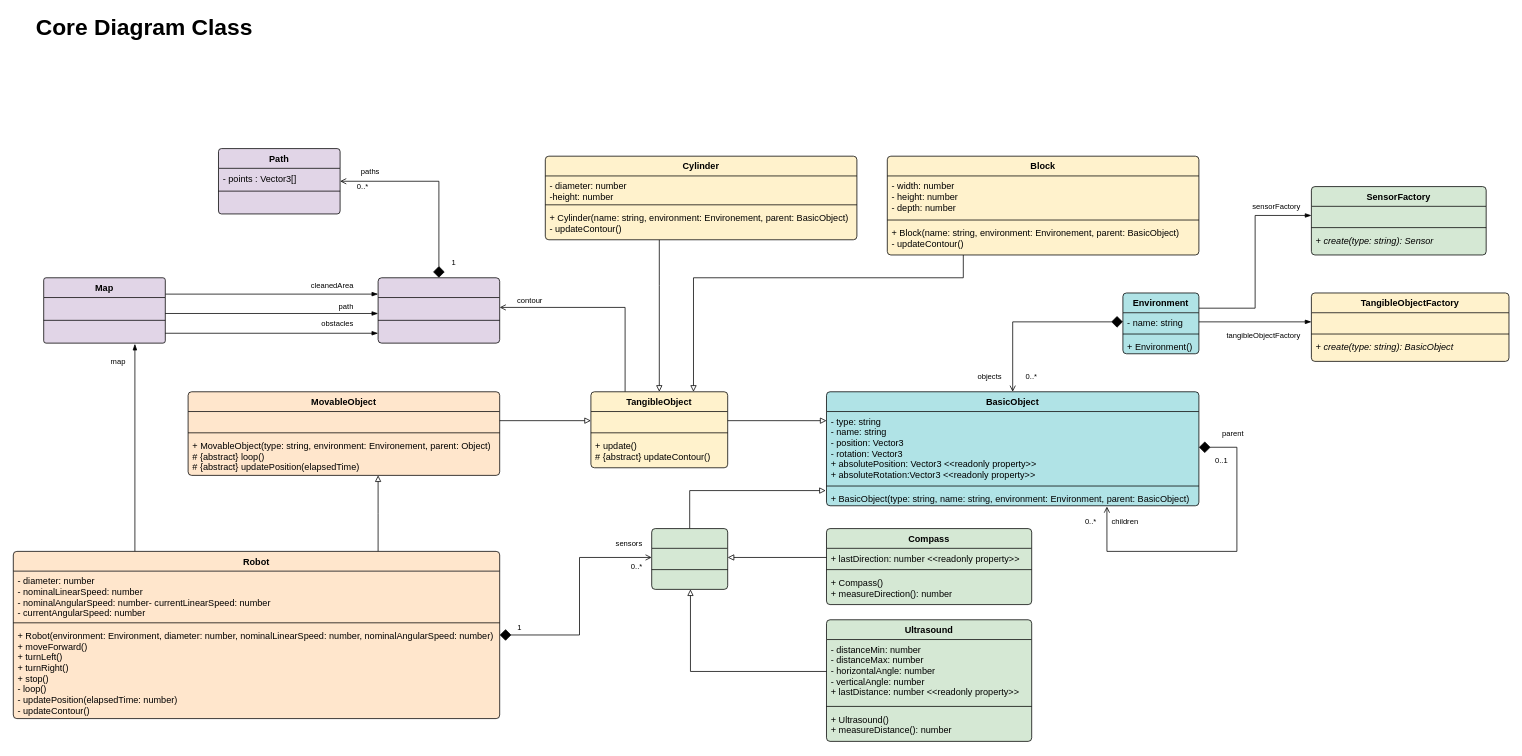
This 1522x756 diagram has some shape labels left out. Each missing label, with the centre of its shape:
"PathsManager" belongs at point 438,310.
"Sensor" belongs at point 689,558.
